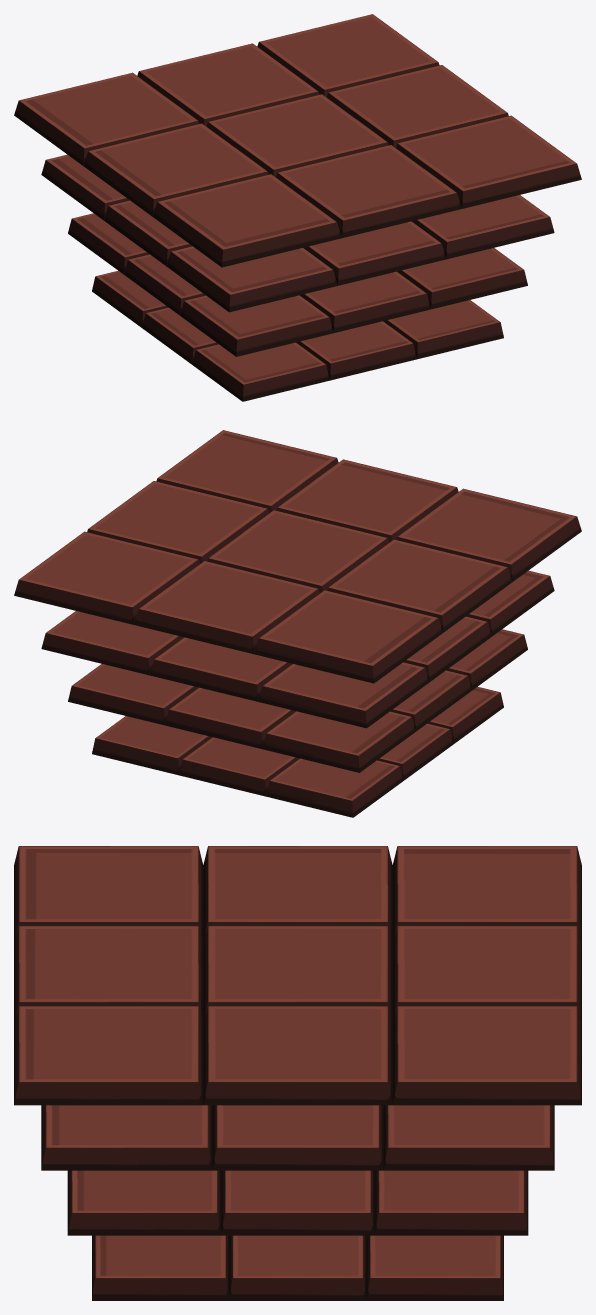
The model's file is board.fbx.
The picture shows the model from 3 angles, top to bottom: view 1: azimuth 30°, elevation 25°; view 2: azimuth 150°, elevation 25°; view 3: azimuth 270°, elevation 25°; orthographic projection. The views are drawn at different scales.
Visible parts, largest first — view 1: Plane001; view 2: Plane001; view 3: Plane001.
Part boxes in pixels (x1,y1,x2,y2): Plane001: [14, 14, 581, 401]; Plane001: [14, 430, 581, 817]; Plane001: [14, 846, 581, 1300].
Size of the model in its own units: 60 by 29.09 by 60.
1 material, 1 textured.
